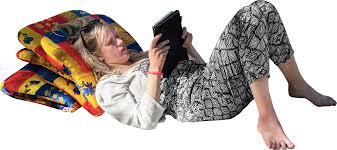no-mask: (87, 24, 132, 67)
